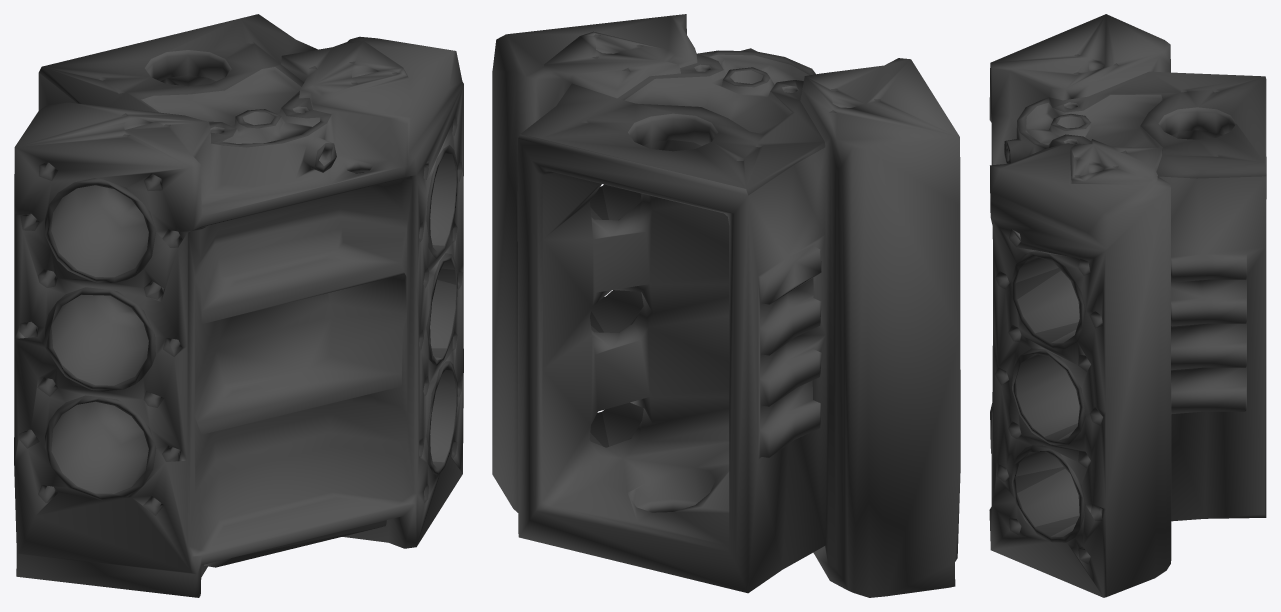
The model's file is motor.obj.
3 views of the same model, side by side, from view 1: azimuth 30°, elevation 25°; view 2: azimuth 150°, elevation 25°; view 3: azimuth 270°, elevation 25° (orthographic). The views are drawn at different scales.
Visible parts, largest first — view 1: motor; view 2: motor; view 3: motor.
Boxes of the visible parts, left/top/right/bottom form: motor: left=14, top=14, right=463, bottom=597; motor: left=492, top=14, right=960, bottom=597; motor: left=989, top=14, right=1266, bottom=597.
Size of the model in its own units: 56.23 by 52 by 33.54.
1 material, 1 textured.
